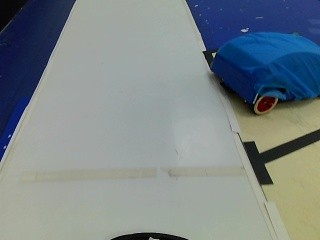car: (210, 28, 320, 116)
